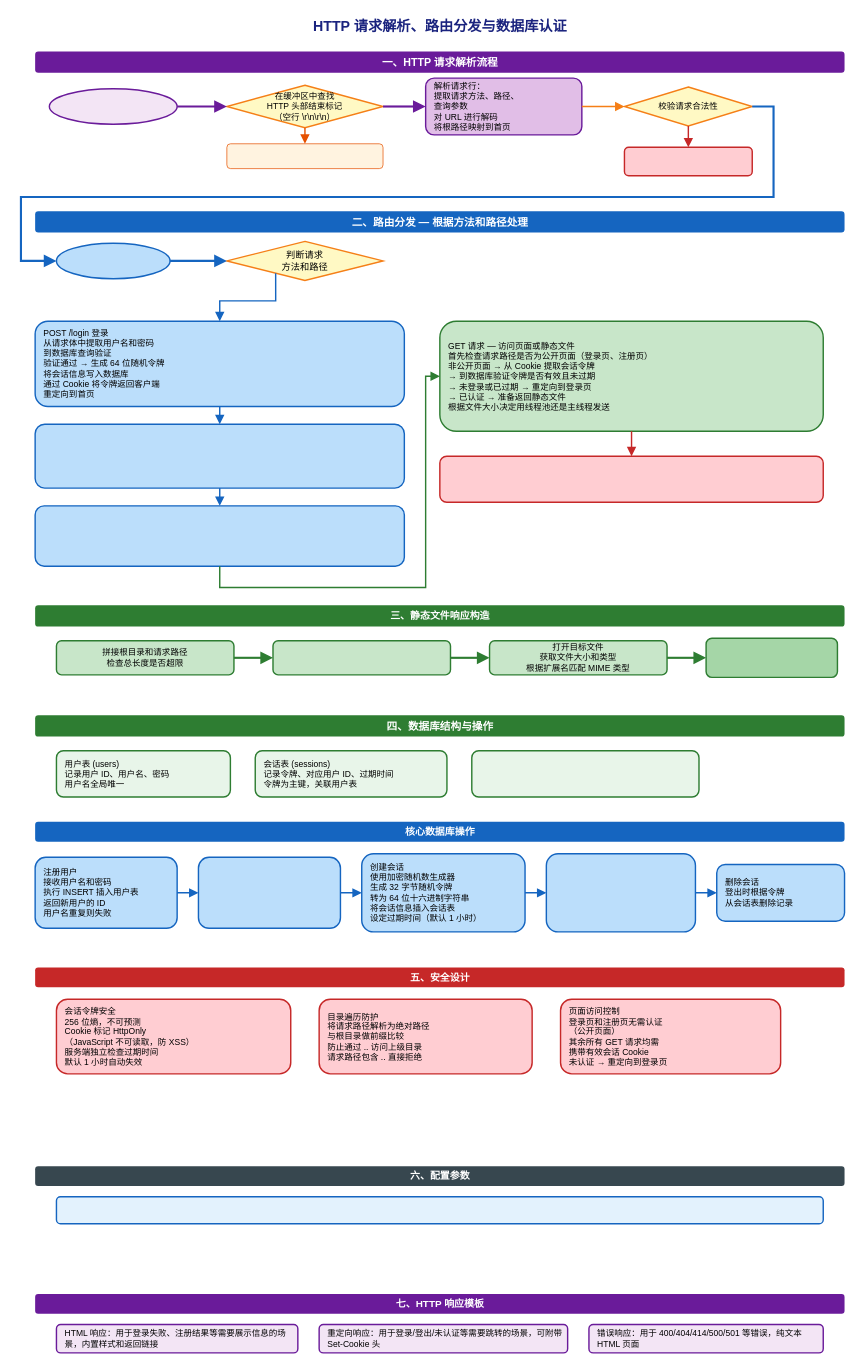
The diagram is 858 pixels wide and 1365 high, and some of its shapes have lost their labels. The shapes that lost their labels are listed below. From the top down, each one's box as (x1, y1, x2, y2) in pixels, then its label:
(48, 88, 178, 125): 收到客户端数据 追加到读缓冲区
(226, 143, 383, 169): 未找到 → 继续等待 客户端发送更多数据
(623, 146, 753, 176): 校验失败 → 返回 400/404/501 错误
(55, 242, 170, 279): 校验通过 进入路由分发
(34, 423, 405, 488): POST /register 注册 从请求体中提取用户名和密码 将新用户信息写入数据库 成功 → 返回注册成功页面 失败 → 提示用户名已存在
(439, 455, 824, 503): 错误的请求方法或路径 返回 404 Not Found 或 501 Not Implemented
(34, 505, 405, 567): POST /logout 登出 从 Cookie 中提取会话令牌 在数据库中删除该会话记录 返回清除 Cookie 的指令 重定向到登录页
(272, 640, 451, 675): 解析为绝对路径并检查 防止目录遍历攻击 （如 ../../../etc/passwd）
(705, 637, 838, 678): 构造 HTTP 200 响应头 包含内容类型、长度 标记支持保持连接 将文件描述符附加到响应
(471, 750, 699, 797): 数据库初始化时自动创建两张表 存储在项目根目录的 data/ 子目录下 使用 SQLite 嵌入式数据库引擎
(197, 856, 341, 929): 验证登录 根据用户名查询用户表 比对密码是否匹配 匹配返回用户 ID 不匹配返回 0
(545, 853, 696, 932): 验证会话 根据令牌查询会话表 检查是否在有效期内 有效 → 返回用户 ID 过期 → 删除会话记录 无效 → 返回 0
(55, 1196, 824, 1224): 服务器端口号 | 监听队列长度 | 最大连接数 (1024) | 线程池线程数 (4) | 连接保持超时 (60秒) | 会话超时 (1小时) | 网站根目录
